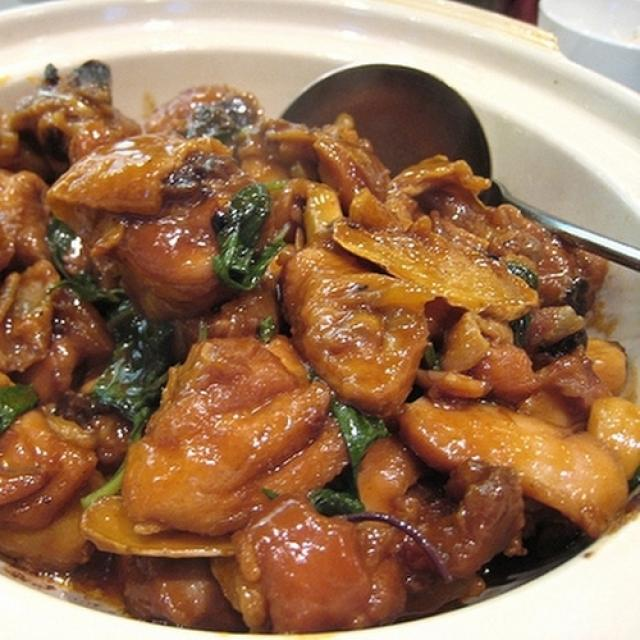鸡肉料理 含炸鸡: (4, 5, 631, 631)
